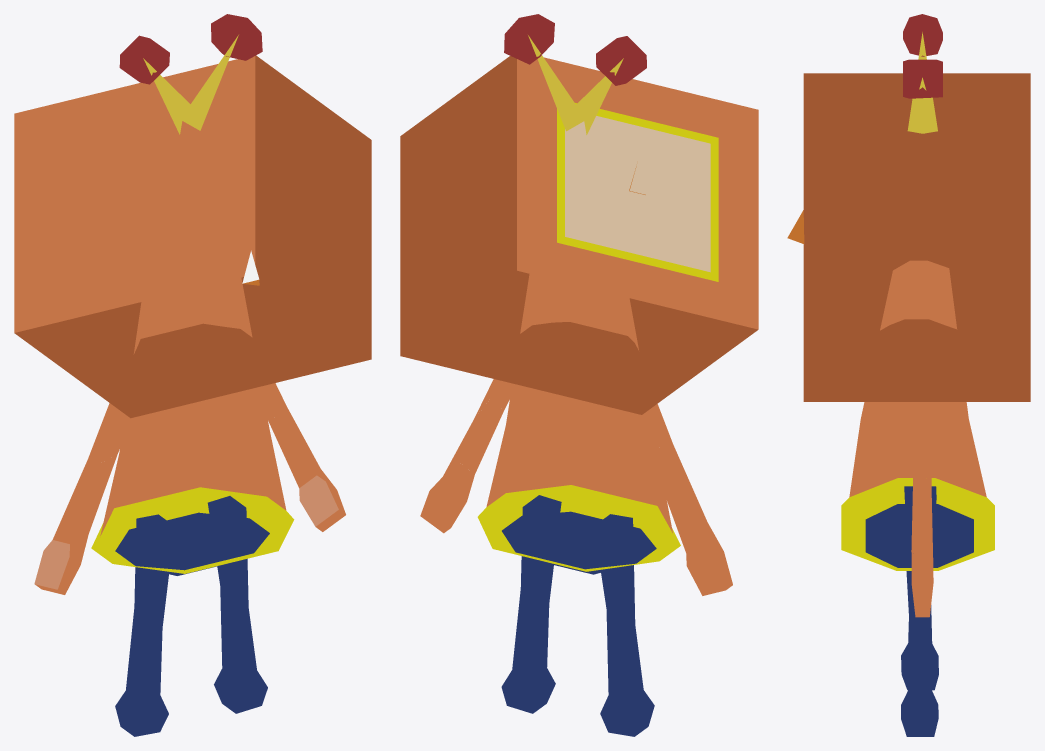
Rendered from 06a7_Shikao.glb.
3 renders of one model, left to right at view 1: azimuth 30°, elevation 25°; view 2: azimuth 150°, elevation 25°; view 3: azimuth 270°, elevation 25°, orthographic. The views are drawn at different scales.
Parts seen in each view (by area): view 1: part_0; view 2: part_0; view 3: part_0.
Part boxes in pixels (x1,y1,x2,y2): part_0: [14, 14, 371, 736]; part_0: [400, 14, 758, 736]; part_0: [787, 14, 1030, 736].
Bounding box in the file's own units: 0.4869 × 1.05 × 0.3453.
1 material, 1 textured.
